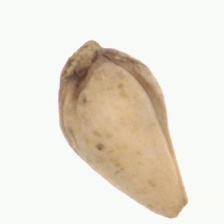L1: (57, 38, 114, 93), (158, 187, 190, 219)
L2: (58, 39, 190, 219)
